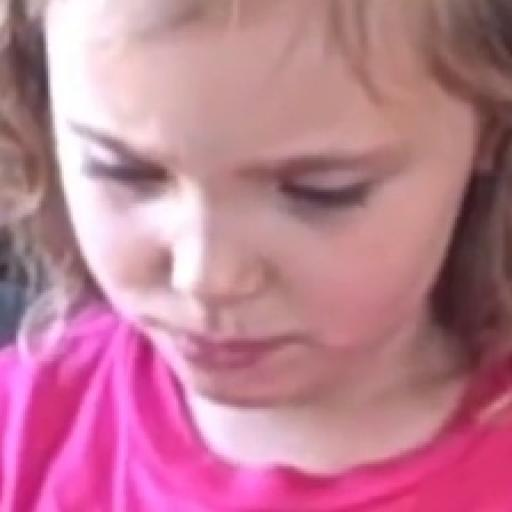Autism: (40, 5, 446, 439)
